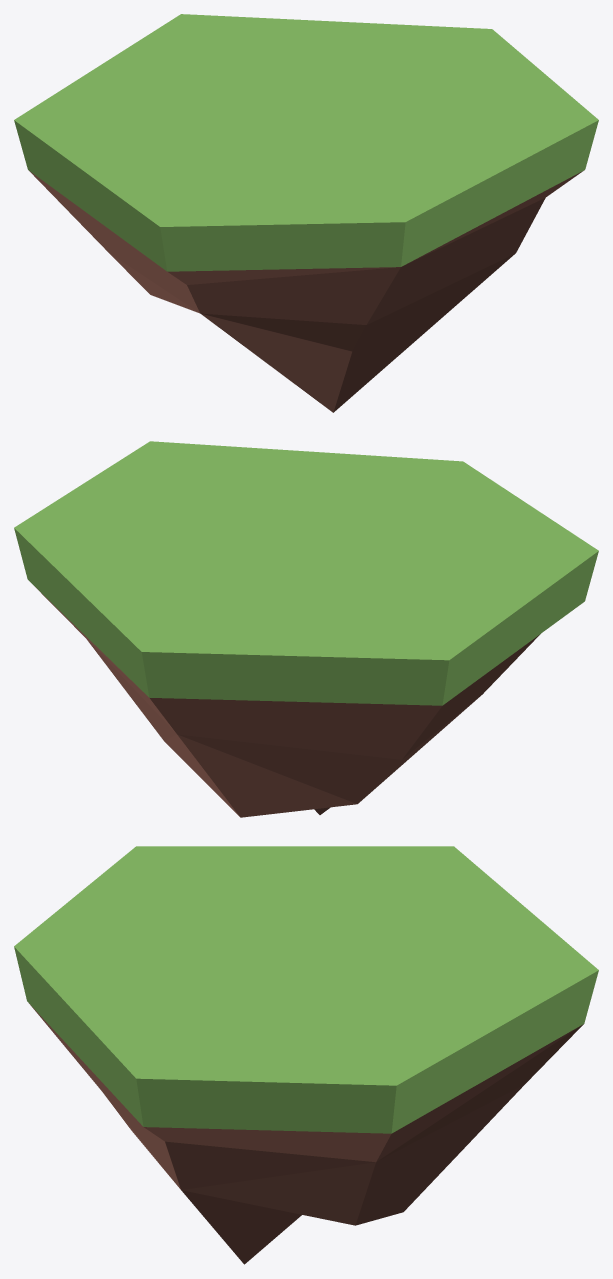
The model's file is SmallIsland1.fbx.
3 renders of one model, top to bottom at view 1: azimuth 30°, elevation 25°; view 2: azimuth 150°, elevation 25°; view 3: azimuth 270°, elevation 25°, orthographic. The views are drawn at different scales.
Visible parts, largest first — view 1: SmallIsland1; view 2: SmallIsland1; view 3: SmallIsland1.
Part boxes in pixels (<box>): SmallIsland1: <box>14,14,598,412</box>; SmallIsland1: <box>14,441,598,817</box>; SmallIsland1: <box>14,846,598,1264</box>.
Bounding box in the file's own units: 1.1 × 0.6455 × 1.14.
